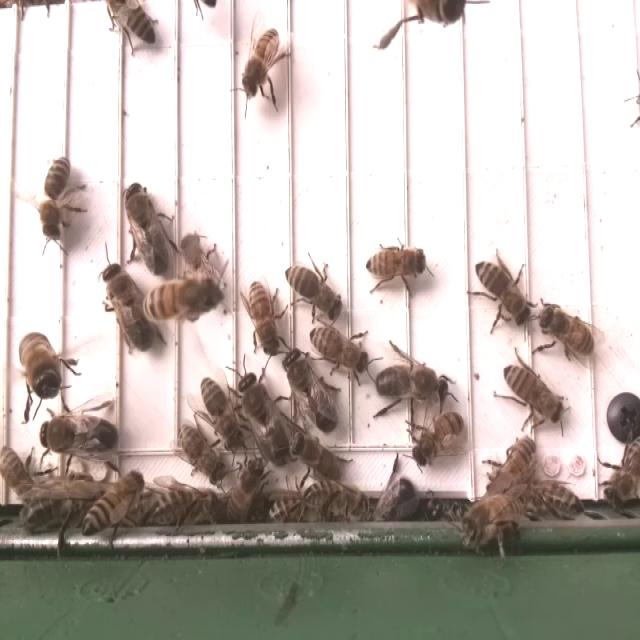Drone: (238, 370, 294, 470), (282, 346, 341, 436), (100, 260, 155, 356), (122, 178, 173, 278), (15, 324, 66, 404), (37, 412, 121, 458), (374, 361, 451, 408)
Worker: (83, 469, 144, 536), (474, 256, 530, 327), (501, 362, 566, 422), (282, 260, 343, 318), (287, 431, 348, 488), (486, 435, 538, 500), (540, 303, 598, 359), (200, 374, 242, 449), (38, 154, 73, 244), (142, 280, 216, 322), (241, 28, 284, 100), (363, 242, 430, 288), (175, 422, 227, 480), (246, 277, 281, 361), (310, 324, 370, 372), (411, 412, 465, 464), (0, 439, 34, 504), (109, 0, 157, 46)
